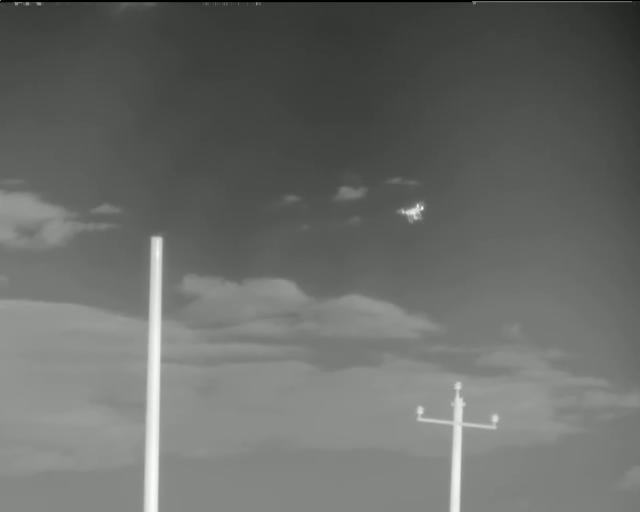uav: (396, 200, 427, 225)
